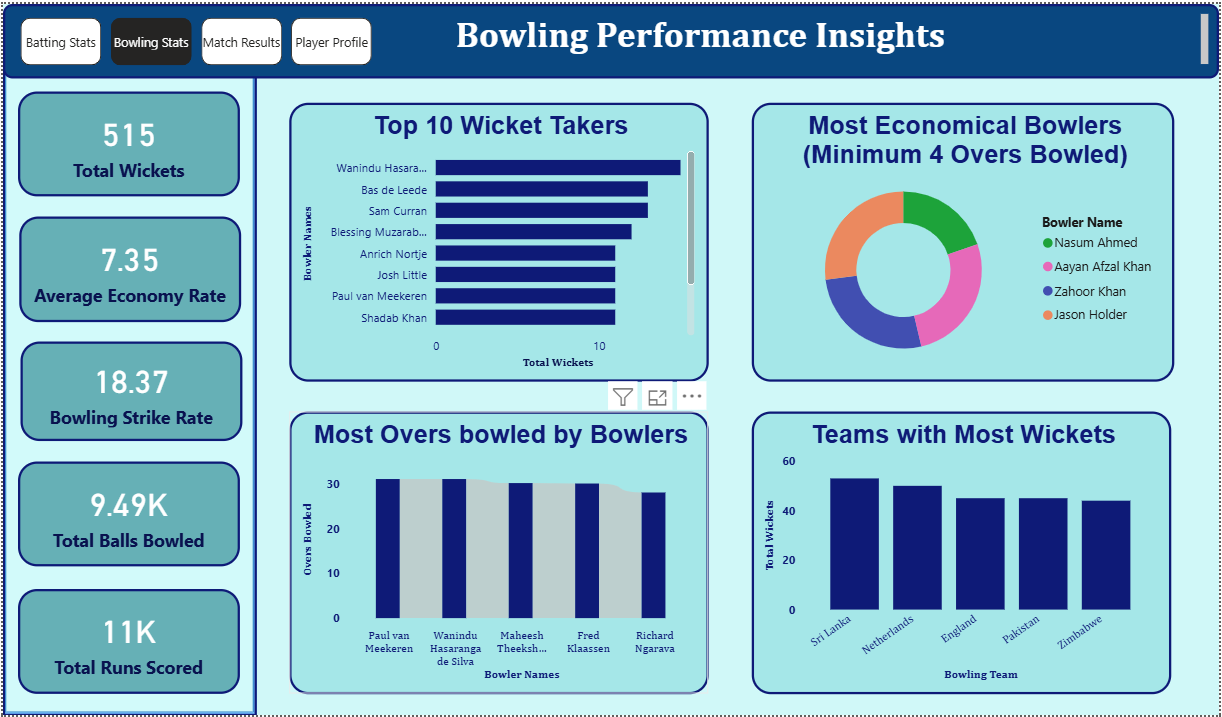

Layout of this report page (visuals, bound fields, positions):
{"tool":"powerbi","page":{"name":"Bowling Stats","canvas":[1280,750],"ordinal":1},"visuals":[{"type":"shape","box":[0,63.8,267.5,686.2],"z":0},{"type":"card","fields":{"Values":["Bowling_Summary.Total Balls Bowled"]},"box":[16.2,481.2,233.8,110],"z":1000},{"type":"card","fields":{"Values":["Bowling_Summary.Economy Rate"]},"box":[17.5,223.8,233.8,111.2],"z":2000},{"type":"card","fields":{"Values":["Bowling_Summary.Bowling Strike Rate"]},"box":[18.8,355,233.8,105],"z":3000},{"type":"card","fields":{"Values":["Bowling_Summary.Total Wickets"]},"box":[16.2,92.5,233.8,110],"z":4000},{"type":"card","fields":{"Values":["Batting_Summary.Total Runs Scored"]},"box":[16.2,616.2,233.8,110],"z":5000},{"type":"textbox","box":[0,0,1280,78.8],"z":6000},{"type":"pageNavigator","box":[19,14,371,50],"z":7000},{"type":"clusteredBarChart","title":"Top 10 Wicket Takers","fields":{"Category":["Bowling_Summary.bowlerName"],"Y":["Bowling_Summary.Total Wickets"]},"box":[301.2,103.8,441.2,293.8],"z":8000},{"type":"donutChart","title":"Most Economical Bowlers (Minimum 4 Overs Bowled)","fields":{"Category":["Bowling_Summary.bowlerName"],"Y":["Bowling_Summary.Economy Rate"]},"box":[788.8,103.8,445,293.8],"z":9000},{"type":"ribbonChart","title":"Most Overs bowled by Bowlers","fields":{"Y":["Bowling_Summary.Overs Bowled"],"Category":["Bowling_Summary.bowlerName"]},"box":[301.2,428.8,441.2,297.5],"z":10000},{"type":"clusteredColumnChart","title":"Teams with Most Wickets","fields":{"Category":["Bowling_Summary.bowlingTeam"],"Y":["Bowling_Summary.Total Wickets"]},"box":[788.8,428.8,441.2,297.5],"z":11000}]}

Visuals, with their boxes in screenshot pixels (x1, y1, x2, y2), scaled from the page's 1280x750 canvas onto the 1222x717 screenshot:
shape: l=0, t=61, r=255, b=716
card - Bowling_Summary.Total Balls Bowled: l=15, t=460, r=239, b=565
card - Bowling_Summary.Economy Rate: l=17, t=214, r=240, b=320
card - Bowling_Summary.Bowling Strike Rate: l=18, t=339, r=241, b=440
card - Bowling_Summary.Total Wickets: l=15, t=88, r=239, b=194
card - Batting_Summary.Total Runs Scored: l=15, t=589, r=239, b=694
textbox: l=0, t=0, r=1221, b=75
pageNavigator: l=18, t=13, r=372, b=61
"Top 10 Wicket Takers" clusteredBarChart: l=288, t=99, r=709, b=380
"Most Economical Bowlers (Minimum 4 Overs Bowled)" donutChart: l=753, t=99, r=1178, b=380
"Most Overs bowled by Bowlers" ribbonChart: l=288, t=410, r=709, b=694
"Teams with Most Wickets" clusteredColumnChart: l=753, t=410, r=1174, b=694
